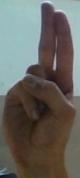U: (1, 2, 80, 178)
